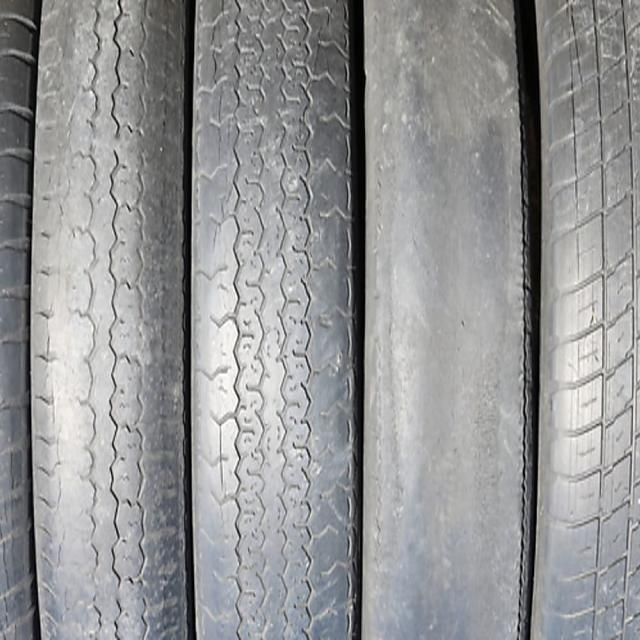Flat spots: (362, 0, 526, 639), (33, 0, 116, 640)
